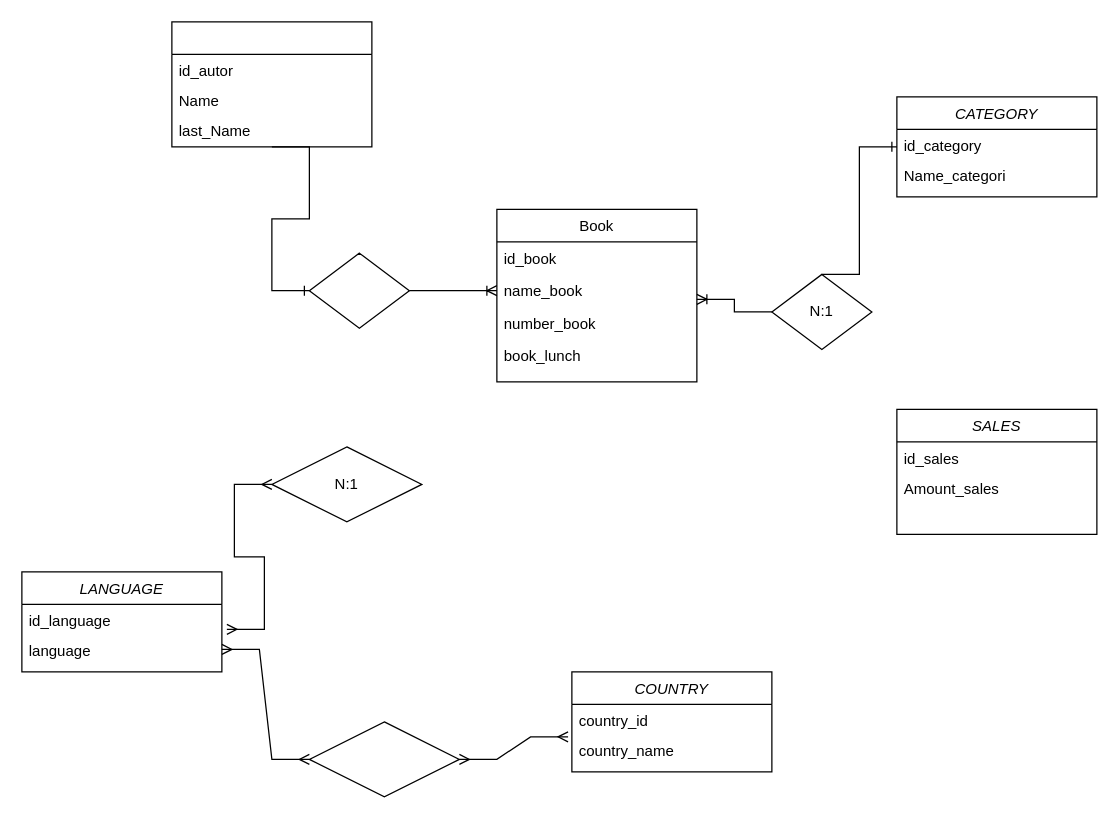
Image size: 1119x819. Some labels were removed from this diagram. The box of each missing label's shape, as (x1, y1, x2, y2) in pixels:
1:N: (308, 252, 409, 328)
N:N: (308, 721, 459, 797)
NAME_AUTOR: (171, 21, 372, 147)
